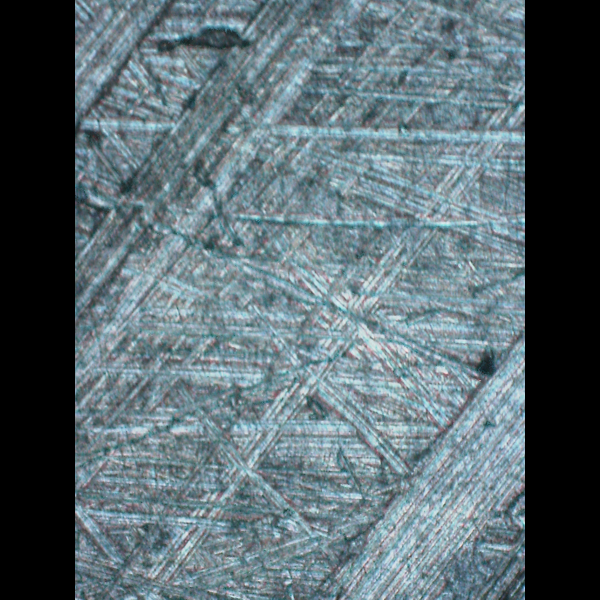d: (74, 0, 376, 385)
